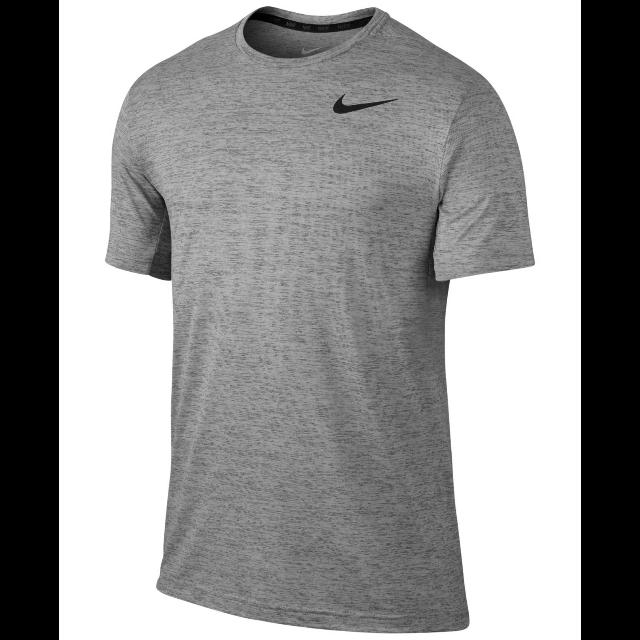NIKE_original: (320, 74, 410, 130)
